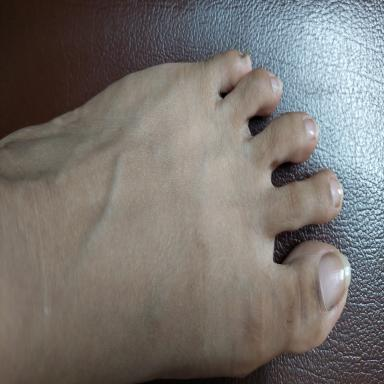normal skin: (0, 50, 351, 382)
